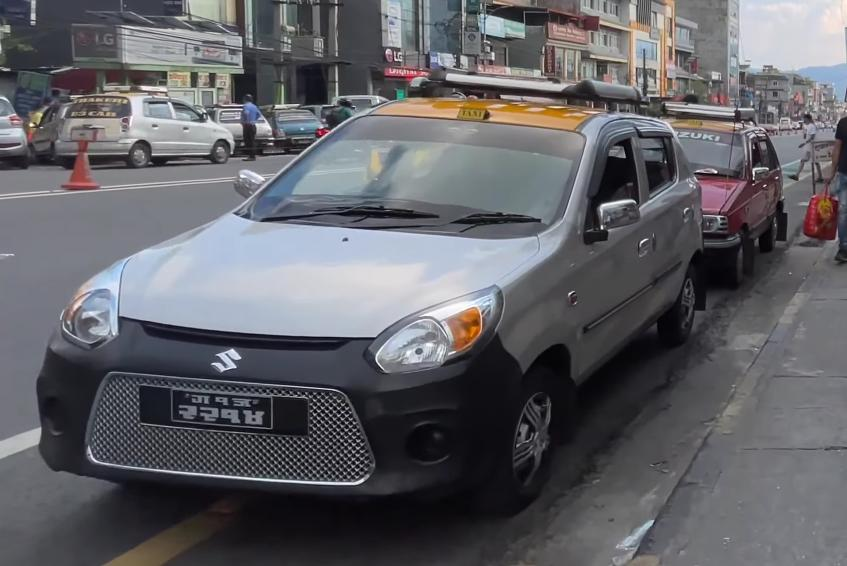taxi: (17, 80, 722, 520), (650, 101, 806, 293), (53, 82, 238, 172)
